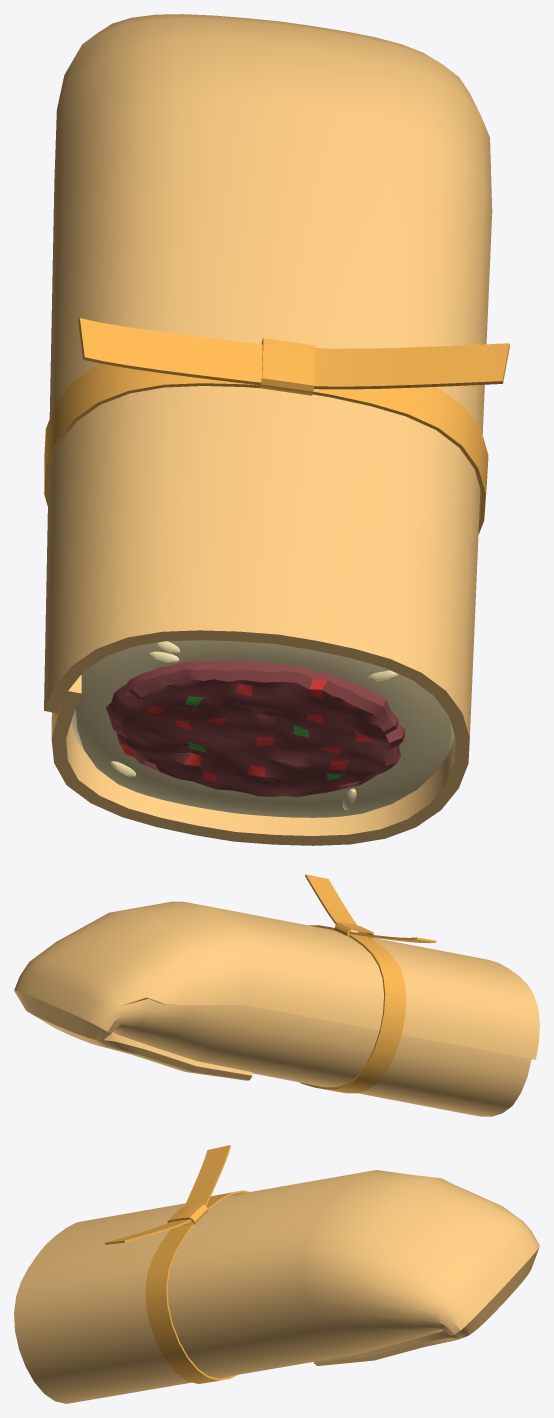
File: tamale.glb
3 renders of one model, top to bottom at view 1: azimuth 30°, elevation 25°; view 2: azimuth 150°, elevation 25°; view 3: azimuth 270°, elevation 25°, orthographic. The views are drawn at different scales.
Parts seen in each view (by area): view 1: Cylinder.350; view 2: Cylinder.350; view 3: Cylinder.350.
Part boxes in pixels (bbox=[...]): Cylinder.350: bbox=[44, 14, 509, 845]; Cylinder.350: bbox=[14, 874, 539, 1116]; Cylinder.350: bbox=[14, 1145, 539, 1403].
Bounding box in the file's own units: 2.3 × 1.59 × 2.88.
1 material, 1 textured.
